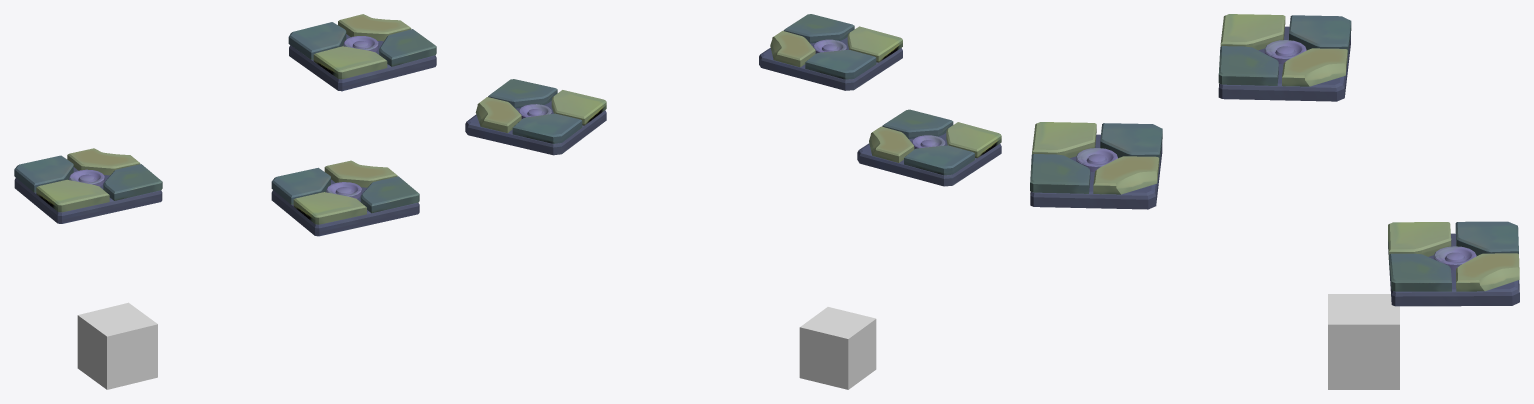
File: battlescence-3-floor002.fbx
The picture shows the model from 3 angles, left to right: view 1: azimuth 30°, elevation 25°; view 2: azimuth 150°, elevation 25°; view 3: azimuth 270°, elevation 25°; orthographic projection. The views are drawn at different scales.
Visible parts, largest first — view 1: Cube.015, Cube.088, Cube.073, battlescence-3-floor002; view 2: Cube.073, Cube.088, Cube.015, battlescence-3-floor002; view 3: Cube.073, Cube.088, Cube.015, battlescence-3-floor002.
Part boxes in pixels (left/top/right/bottom): Cube.015: left=288, top=14, right=436, bottom=91; Cube.088: left=271, top=160, right=419, bottom=236; Cube.073: left=14, top=148, right=162, bottom=223; battlescence-3-floor002: left=77, top=302, right=157, bottom=389; Cube.073: left=857, top=109, right=1001, bottom=186; Cube.088: left=759, top=14, right=902, bottom=90; Cube.015: left=465, top=79, right=606, bottom=155; battlescence-3-floor002: left=799, top=307, right=876, bottom=389; Cube.073: left=1218, top=14, right=1351, bottom=101; Cube.088: left=1030, top=122, right=1162, bottom=209; Cube.015: left=1388, top=221, right=1519, bottom=306; battlescence-3-floor002: left=1328, top=294, right=1399, bottom=389.
Size of the model in its own units: 1256 by 640 by 972.
